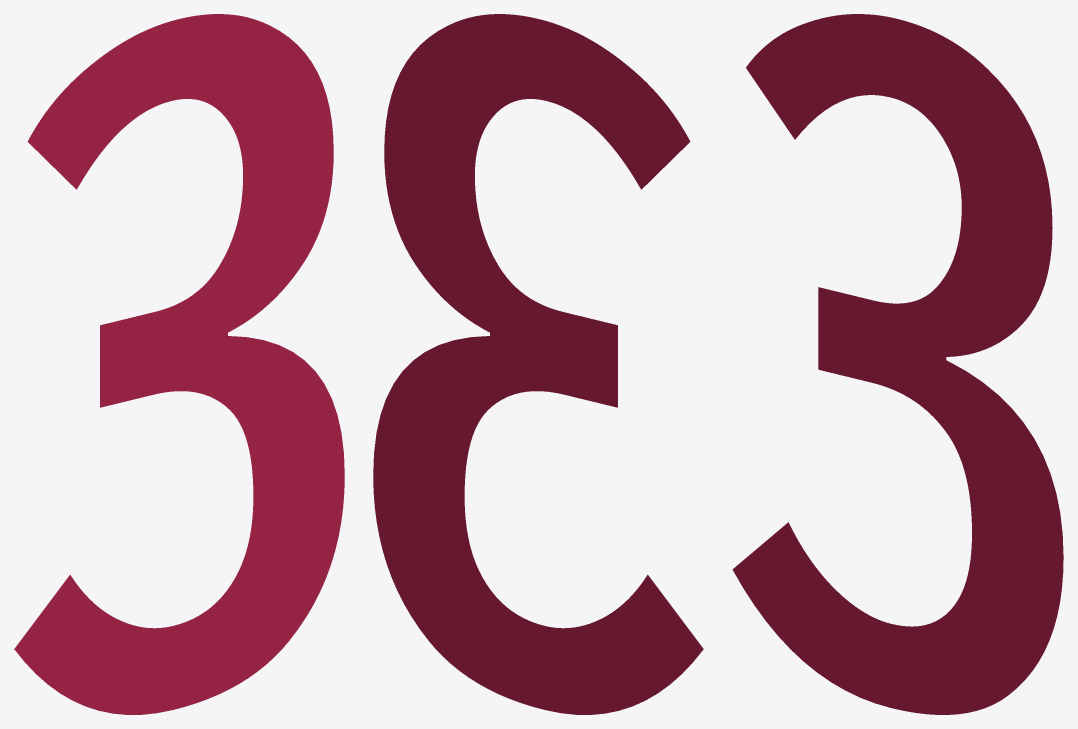
3 views of the same model, side by side, from view 1: azimuth 30°, elevation 25°; view 2: azimuth 150°, elevation 25°; view 3: azimuth 330°, elevation 25° (orthographic).
Visible parts, largest first — view 1: テキスト; view 2: テキスト; view 3: テキスト.
Boxes of the visible parts, x1,y1,x2,y2 form: テキスト: (14, 14, 344, 714); テキスト: (373, 14, 703, 714); テキスト: (732, 14, 1063, 714).
Bounding box in the file's own units: 0.4238 × 0.8447 × 0.
